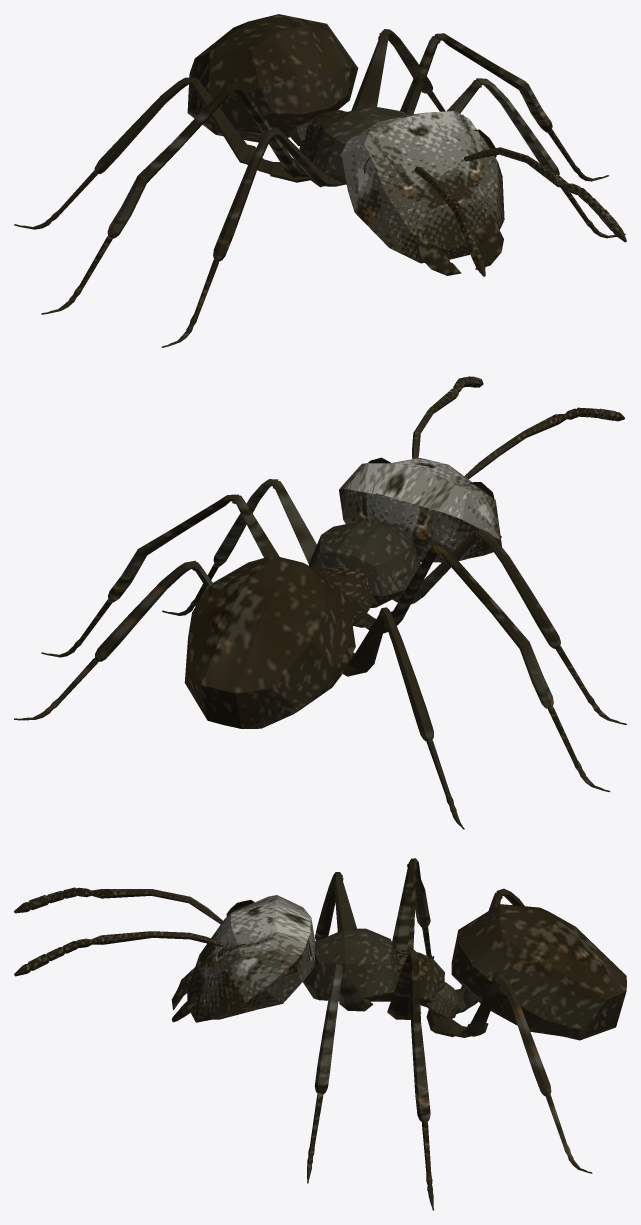
File: ant1.fbx
3 renders of one model, top to bottom at view 1: azimuth 30°, elevation 25°; view 2: azimuth 150°, elevation 25°; view 3: azimuth 270°, elevation 25°, orthographic. The views are drawn at different scales.
Parts seen in each view (by area): view 1: Head, Abdomen 6, Legs 2, Legs 3, Legs 1, Antenna, Abdomen 1, Mandibles, Abdomen 2; view 2: Abdomen 6, Head, Legs 2, Legs 3, Abdomen 1, Legs 1, Antenna, Abdomen 2; view 3: Abdomen 6, Head, Legs 2, Abdomen 1, Legs 1, Legs 3, Antenna, Abdomen 2, Abdomen 3, Mandibles.
Part boxes in pixels (x1=…): Head: x1=341, y1=111, x2=504, y2=263; Abdomen 6: x1=187, y1=14, x2=358, y2=142; Legs 2: x1=41, y1=33, x2=608, y2=314; Legs 3: x1=14, y1=29, x2=463, y2=229; Legs 1: x1=161, y1=78, x2=625, y2=347; Antenna: x1=414, y1=147, x2=626, y2=276; Abdomen 1: x1=309, y1=106, x2=406, y2=184; Mandibles: x1=416, y1=217, x2=503, y2=275; Abdomen 2: x1=303, y1=110, x2=346, y2=156; Abdomen 6: x1=184, y1=555, x2=355, y2=728; Head: x1=339, y1=458, x2=501, y2=562; Legs 2: x1=41, y1=494, x2=610, y2=792; Legs 3: x1=14, y1=560, x2=464, y2=829; Abdomen 1: x1=309, y1=521, x2=420, y2=607; Legs 1: x1=162, y1=479, x2=626, y2=724; Antenna: x1=412, y1=376, x2=624, y2=479; Abdomen 2: x1=320, y1=565, x2=373, y2=625; Abdomen 6: x1=451, y1=904, x2=626, y2=1040; Head: x1=187, y1=895, x2=315, y2=1022; Legs 2: x1=387, y1=858, x2=434, y2=1210; Abdomen 1: x1=303, y1=928, x2=398, y2=1001; Legs 1: x1=307, y1=872, x2=373, y2=1183; Legs 3: x1=426, y1=888, x2=592, y2=1173; Antenna: x1=14, y1=887, x2=224, y2=976; Abdomen 2: x1=395, y1=949, x2=444, y2=1007; Abdomen 3: x1=426, y1=982, x2=459, y2=1018; Mandibles: x1=171, y1=967, x2=199, y2=1022.
Bounding box in the file's own units: 997 × 1016 × 327.
